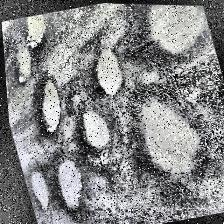pothole: (114, 83, 214, 186), (132, 3, 214, 61), (25, 76, 69, 136), (45, 155, 89, 215), (82, 43, 128, 99), (68, 104, 114, 154), (4, 41, 40, 87), (22, 167, 52, 213), (17, 12, 53, 48), (4, 63, 14, 107)
